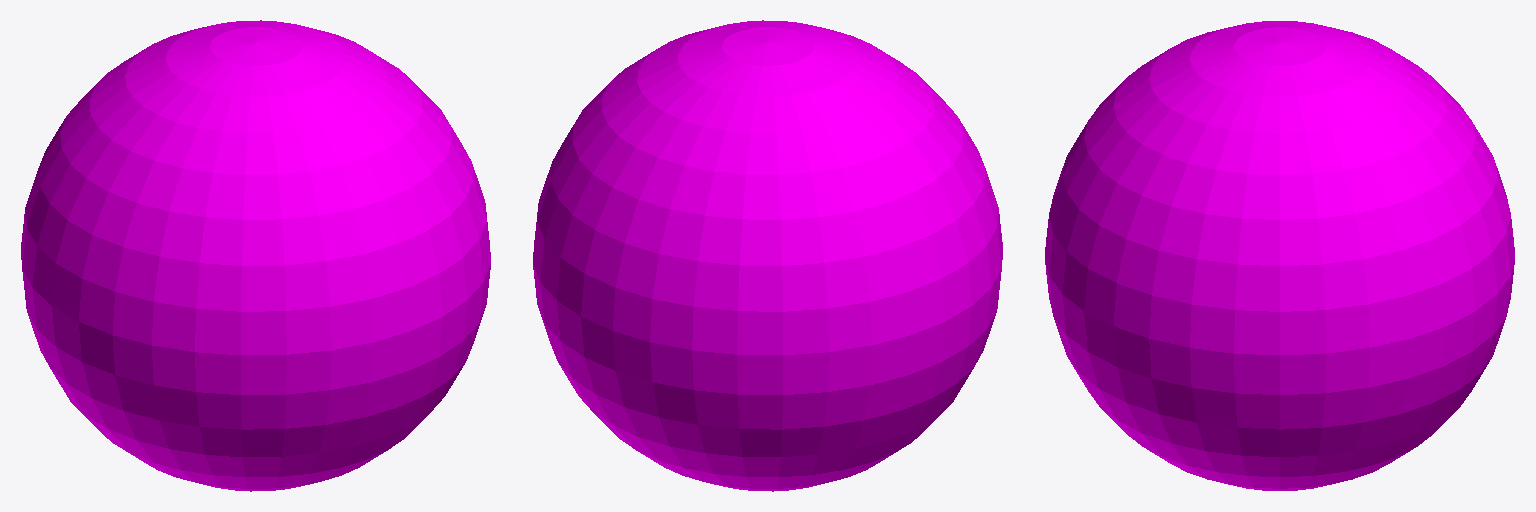
URDF robot description (urdf_robot):
<?xml version="1.0" ?>
<robot name="urdf_robot">
  <link name="base_link">
    <contact>
      <restitution value="1.0"/>
      <rolling_friction value="0.001"/>
      <spinning_friction value="0.001"/>
    </contact>
    <inertial>
      <origin rpy="0 0 0" xyz="0 0 0"/>
       <mass value="1.0"/>
       <inertia ixx="0.004266666667" ixy="0" ixz="0" iyy="0.004266666667" iyz="0" izz="0.004266666667"/>
    </inertial>
    <visual>
      <origin rpy="0 0 0" xyz="0 0 0"/>
      <geometry>
	    <sphere radius="0.08"/>
      </geometry>
      <material name="magenta">
        <color rgba="1 0 1 1"/>
      </material>
    </visual>
    <collision>
      <origin rpy="0 0 0" xyz="0 0 0"/>
      <geometry>
	    <sphere radius="0.08"/>
      </geometry>
    </collision>
  </link>
</robot>

--- Render facts (derived) ---
Views: 3 orthographic renders of the robot side by side, from view 1: azimuth 30°, elevation 25°; view 2: azimuth 150°, elevation 25°; view 3: azimuth 270°, elevation 25°.
Robot: urdf_robot — 1 links, 0 joints (none); root link base_link; default pose: every joint at zero.
Visible links, largest first — view 1: base_link; view 2: base_link; view 3: base_link.
Link boxes in pixels (box(x1,y1,x2,y2)): base_link: box(21, 20, 490, 491); base_link: box(533, 20, 1002, 491); base_link: box(1045, 21, 1514, 490).
Bounding box of the posed robot: 0.16 × 0.16 × 0.16 m (x, y, z).
Geometry: primitives only (box / cylinder / sphere), no mesh files.